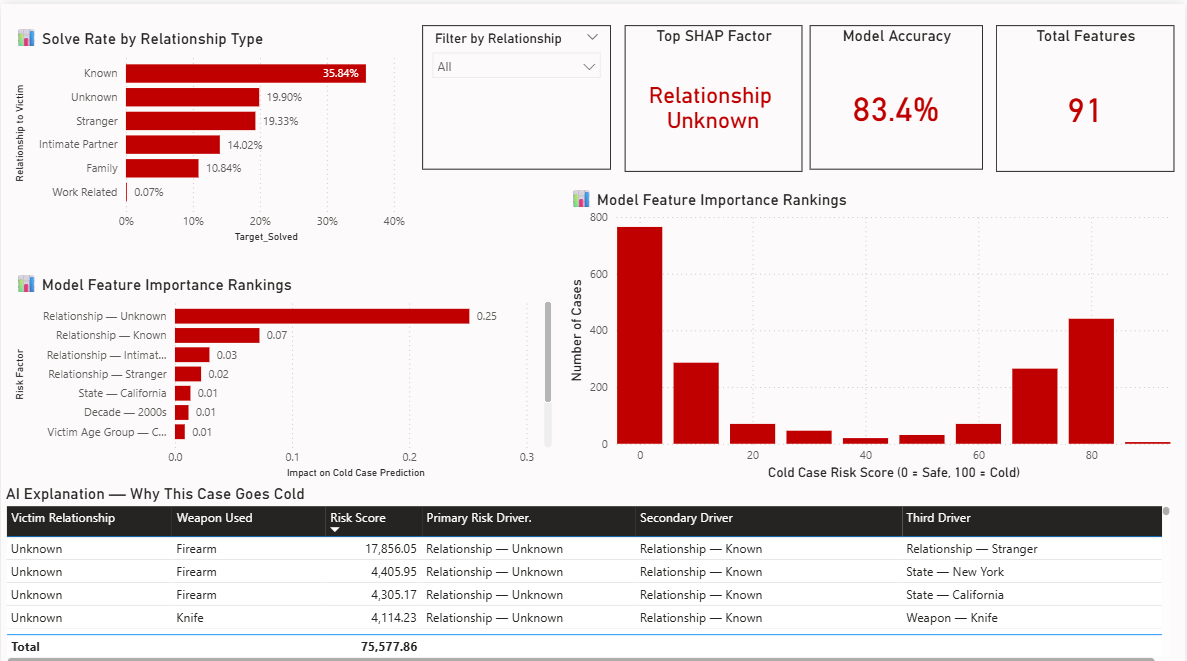

This screenshot's page, from the dashboard's own definition file:
{"tool":"powerbi","page":{"name":"🤖 ML & SHAP Insights","canvas":[1280,720],"ordinal":1},"visuals":[{"type":"tableEx","title":"AI Explanation — Why This Case Goes Cold","fields":{"Values":["final_portfolio_export.Relationship Grouped","final_portfolio_export.Weapon Grouped","Sum(final_portfolio_export.Cold_Case_Risk_Score)","final_portfolio_export.SHAP_Feature_1","final_portfolio_export.SHAP_Feature_2","final_portfolio_export.SHAP_Feature_3"]},"box":[0,518.8,1269.2,201.5],"z":0},{"type":"clusteredColumnChart","title":"📊 Model Feature Importance Rankings","fields":{"Y":["CountNonNull(final_portfolio_export.Cold_Case_Risk_Score)"],"Category":["final_portfolio_export.(bins) Cold_Case_Risk_Score"]},"box":[609.3,196.6,659.9,322.1],"z":1000},{"type":"clusteredBarChart","title":"📊 Model Feature Importance Rankings","fields":{"Category":["shap_importance.Feature_Clean"],"Y":["Sum(shap_importance.Mean_SHAP)"]},"box":[9.7,289.5,591.2,229.2],"z":2000},{"type":"slicer","fields":{"Values":["final_portfolio_export.Relationship Grouped"]},"box":[456,22.9,203.9,155.6],"z":3000},{"type":"card","title":"Top SHAP Factor","fields":{"Values":["final_portfolio_export.Top SHAP Factor"]},"box":[674.4,22.9,191.8,158],"z":4000},{"type":"card","title":"Total Features","fields":{"Values":["final_portfolio_export.Total Features"]},"box":[1076.1,22.9,193,158],"z":5000},{"type":"card","title":"Model Accuracy","fields":{"Values":["final_portfolio_export.Model Accuracy"]},"box":[874.7,22.9,187,155.6],"z":6000},{"type":"clusteredBarChart","title":"📊 Solve Rate by Relationship Type","fields":{"Category":["final_portfolio_export.Relationship Grouped"],"Y":["Sum(final_portfolio_export.Target_Solved)"]},"box":[9.7,22.9,446.4,240.1],"z":7000}]}

Visuals, with their boxes in screenshot pixels (x1, y1, x2, y2), scaled from the page's 1280x720 canvas onto the 1187x661 screenshot:
"AI Explanation — Why This Case Goes Cold" tableEx: x1=0 y1=476 x2=1177 y2=660
"📊 Model Feature Importance Rankings" clusteredColumnChart: x1=565 y1=180 x2=1177 y2=476
"📊 Model Feature Importance Rankings" clusteredBarChart: x1=9 y1=266 x2=557 y2=476
slicer - final_portfolio_export.Relationship Grouped: x1=423 y1=21 x2=612 y2=164
"Top SHAP Factor" card: x1=625 y1=21 x2=803 y2=166
"Total Features" card: x1=998 y1=21 x2=1177 y2=166
"Model Accuracy" card: x1=811 y1=21 x2=985 y2=164
"📊 Solve Rate by Relationship Type" clusteredBarChart: x1=9 y1=21 x2=423 y2=241
